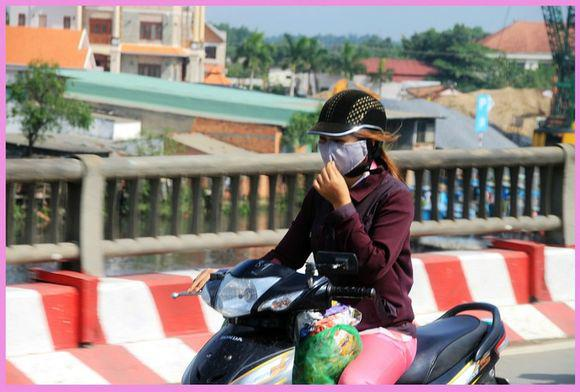OK: (318, 129, 367, 178)
